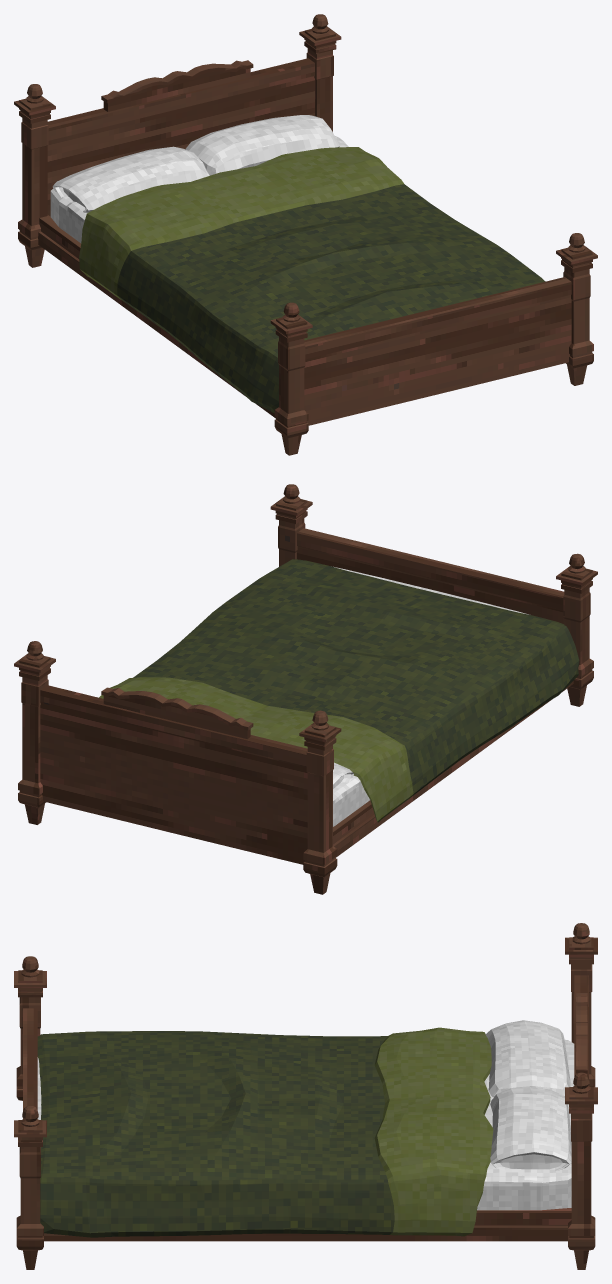
Rendered from bed_double.fbx.
3 renders of one model, top to bottom at view 1: azimuth 30°, elevation 25°; view 2: azimuth 150°, elevation 25°; view 3: azimuth 270°, elevation 25°, orthographic. The views are drawn at different scales.
Parts seen in each view (by area): view 1: Comforter.001, BedFrame.001, Pillow2, Pillow.001, Mattress.001; view 2: Comforter.001, BedFrame.001, Mattress.001; view 3: Comforter.001, BedFrame.001, Pillow2, Pillow.001, Mattress.001.
Part boxes in pixels (left/top/right/bottom): Comforter.001: left=79, top=147, right=545, bottom=413; BedFrame.001: left=14, top=14, right=597, bottom=455; Pillow2: left=185, top=115, right=339, bottom=175; Pillow.001: left=52, top=146, right=209, bottom=212; Mattress.001: left=50, top=136, right=348, bottom=243; Comforter.001: left=99, top=559, right=579, bottom=822; BedFrame.001: left=14, top=484, right=597, bottom=894; Mattress.001: left=333, top=566, right=528, bottom=826; Comforter.001: left=37, top=1027, right=493, bottom=1237; BedFrame.001: left=14, top=923, right=597, bottom=1269; Pillow2: left=490, top=1087, right=571, bottom=1170; Pillow.001: left=485, top=1020, right=570, bottom=1097; Mattress.001: left=37, top=1039, right=574, bottom=1210.
Bounding box in the file's own units: 283 × 156 × 426.
